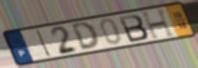0: (99, 17, 125, 47)
2: (49, 25, 80, 56)
B: (117, 13, 150, 44)
D: (70, 21, 102, 51)
H: (140, 7, 177, 41)
I: (35, 28, 53, 58)
